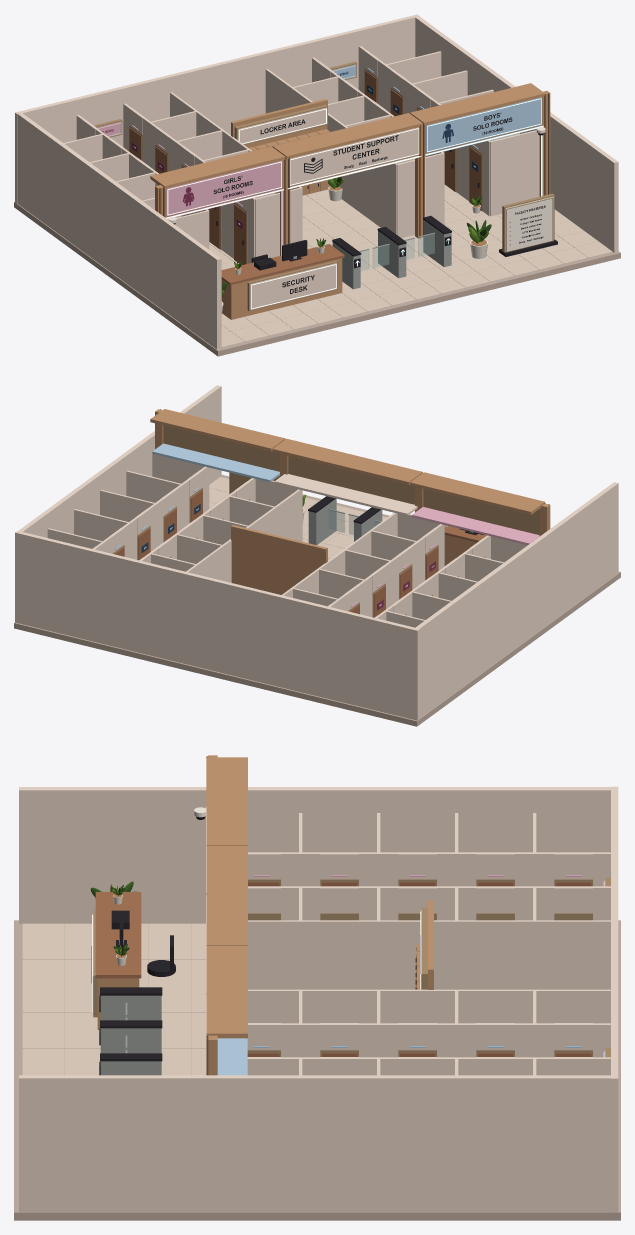
The model's file is reference_third_floor.glb.
The picture shows the model from 3 angles, top to bottom: view 1: azimuth 30°, elevation 25°; view 2: azimuth 150°, elevation 25°; view 3: azimuth 270°, elevation 25°; orthographic projection. The views are drawn at different scales.
Visible parts, largest first — view 1: Tiled third-floor slab and perimeter, Illuminated lobby portals and wayfinding, B01 | solo room, B06 | solo room, G01 | solo room, Security reception and monitor, Two glazed access lanes, G06 | solo room, Central bank of 36 secure lockers, Facility directory and lobby cameras, B10 | solo room, G05 | solo room (+7 smaller); view 2: Tiled third-floor slab and perimeter, Illuminated lobby portals and wayfinding, B01 | solo room, G01 | solo room, B06 | solo room, Central bank of 36 secure lockers, G06 | solo room, Two glazed access lanes, B07 | solo room, G02 | solo room, G03 | solo room, B08 | solo room (+3 smaller); view 3: Tiled third-floor slab and perimeter, G01 | solo room, B01 | solo room, Illuminated lobby portals and wayfinding, Two glazed access lanes, Security reception and monitor, G07 | solo room, G08 | solo room, G09 | solo room, B02 | solo room, B03 | solo room, B04 | solo room (+13 smaller).
Boxes of the visible parts, bbox=[...] form: Tiled third-floor slab and perimeter: bbox=[14, 14, 620, 356]; Illuminated lobby portals and wayfinding: bbox=[150, 83, 550, 255]; B01 | solo room: bbox=[265, 58, 444, 238]; B06 | solo room: bbox=[361, 33, 539, 216]; G01 | solo room: bbox=[126, 92, 302, 264]; Security reception and monitor: bbox=[221, 240, 344, 319]; Two glazed access lanes: bbox=[332, 215, 451, 289]; G06 | solo room: bbox=[39, 115, 209, 249]; Central bank of 36 secure lockers: bbox=[231, 99, 329, 195]; Facility directory and lobby cameras: bbox=[168, 127, 557, 256]; B10 | solo room: bbox=[358, 46, 385, 107]; G05 | solo room: bbox=[123, 103, 150, 165]; Tiled third-floor slab and perimeter: bbox=[14, 385, 620, 726]; Illuminated lobby portals and wayfinding: bbox=[150, 409, 550, 545]; B01 | solo room: bbox=[150, 478, 302, 582]; G01 | solo room: bbox=[282, 512, 444, 606]; B06 | solo room: bbox=[47, 454, 209, 548]; Central bank of 36 secure lockers: bbox=[231, 525, 327, 594]; G06 | solo room: bbox=[385, 535, 527, 627]; Two glazed access lanes: bbox=[308, 496, 382, 545]; B07 | solo room: bbox=[155, 484, 183, 546]; G02 | solo room: bbox=[391, 542, 418, 604]; G03 | solo room: bbox=[365, 561, 392, 617]; B08 | solo room: bbox=[129, 504, 156, 560]; Tiled third-floor slab and perimeter: bbox=[14, 786, 620, 1220]; G01 | solo room: bbox=[248, 886, 610, 989]; B01 | solo room: bbox=[247, 989, 610, 1057]; Illuminated lobby portals and wayfinding: bbox=[206, 755, 247, 1075]; Two glazed access lanes: bbox=[99, 987, 162, 1075]; Security reception and monitor: bbox=[92, 892, 175, 1029]; G07 | solo room: bbox=[300, 852, 378, 886]; G08 | solo room: bbox=[378, 852, 456, 886]; G09 | solo room: bbox=[456, 852, 534, 886]; B02 | solo room: bbox=[300, 1023, 378, 1057]; B03 | solo room: bbox=[378, 1023, 456, 1057]; B04 | solo room: bbox=[456, 1023, 534, 1057].
Bounding box in the file's own units: 16.42 × 4.68 × 14.4.
